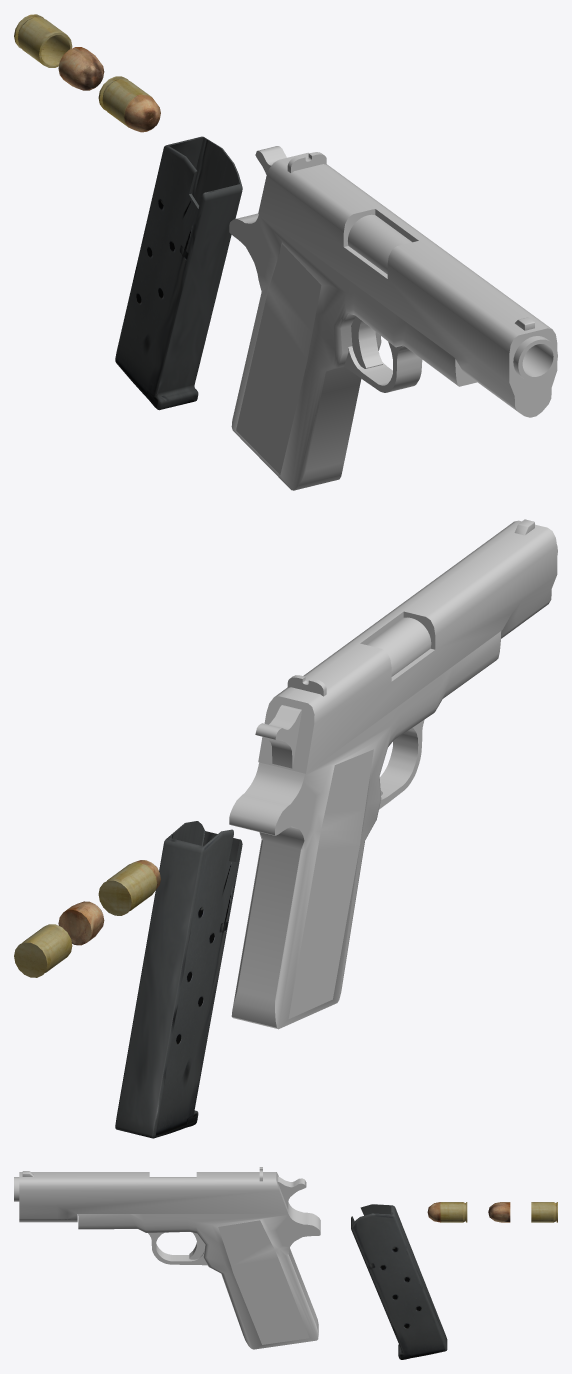
File: Gun_1911.fbx
The picture shows the model from 3 angles, top to bottom: view 1: azimuth 30°, elevation 25°; view 2: azimuth 150°, elevation 25°; view 3: azimuth 270°, elevation 25°; orthographic projection. The views are drawn at different scales.
Parts seen in each view (by area): view 1: 1911_Grip, 1911_Slide, Magazine, 1911_Barrel, Round, 1911_TriggerGuard, Case, Bullet, 1911_Trigger; view 2: 1911_Grip, 1911_Slide, Magazine, Round, Case, 1911_TriggerGuard, 1911_Barrel, 1911_Hammer, Bullet; view 3: 1911_Grip, 1911_Slide, Magazine, Round, 1911_TriggerGuard, Case, 1911_Hammer, Bullet.
Boxes of the visible parts, <box> form: 1911_Grip: <box>229,213,476,490</box>; 1911_Slide: <box>258,152,557,417</box>; Magazine: <box>115,136,242,410</box>; 1911_Barrel: <box>348,214,557,382</box>; Round: <box>98,76,160,132</box>; 1911_TriggerGuard: <box>344,342,422,392</box>; Case: <box>14,14,72,67</box>; Bullet: <box>58,47,104,90</box>; 1911_Trigger: <box>351,316,382,368</box>; 1911_Grip: <box>229,631,501,1029</box>; 1911_Slide: <box>258,520,557,773</box>; Magazine: <box>115,821,242,1138</box>; Round: <box>98,860,160,915</box>; Case: <box>14,924,72,977</box>; 1911_TriggerGuard: <box>379,719,424,809</box>; 1911_Barrel: <box>367,545,557,676</box>; 1911_Hammer: <box>255,705,301,768</box>; Bullet: <box>58,901,104,945</box>; 1911_Grip: <box>78,1202,320,1349</box>; 1911_Slide: <box>19,1172,288,1222</box>; Magazine: <box>351,1204,447,1359</box>; Round: <box>427,1202,467,1222</box>; 1911_TriggerGuard: <box>148,1232,207,1265</box>; Case: <box>531,1202,557,1222</box>; 1911_Hammer: <box>277,1176,306,1208</box>; Bullet: <box>488,1202,510,1222</box>.
Bounding box in the file's own units: 2.88 × 18.13 × 48.22.
